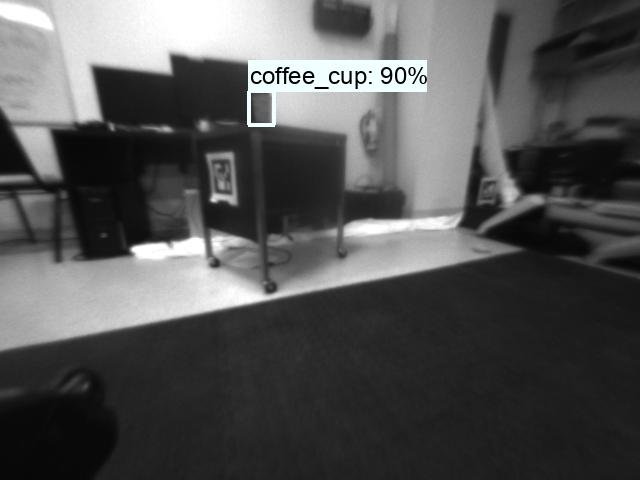coffee_cup: (251, 91, 275, 128)
